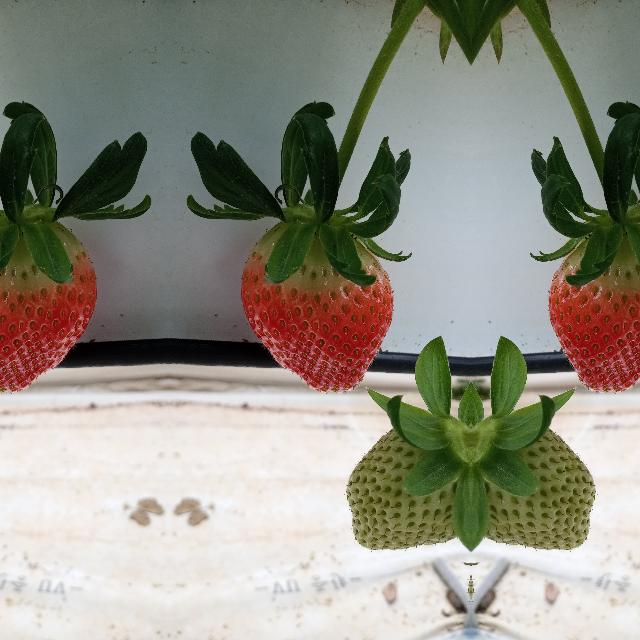Health_25: (346, 398, 468, 554), (473, 398, 595, 554)
Health_75: (240, 223, 392, 394), (0, 223, 96, 394), (548, 223, 640, 394)
